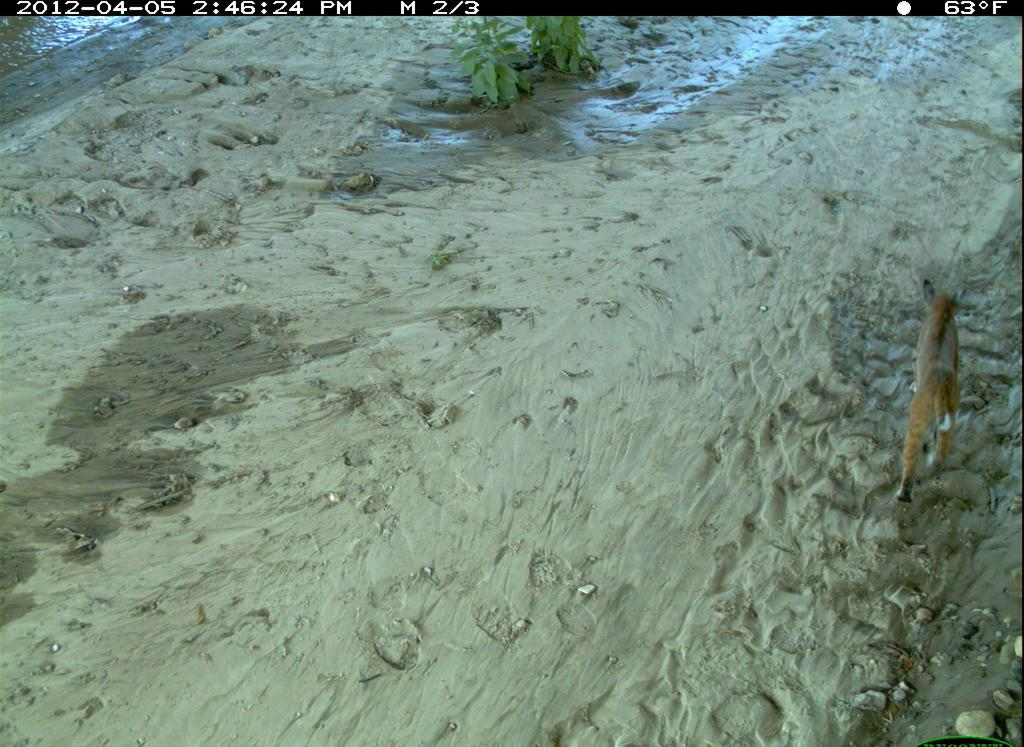bobcat: (880, 272, 989, 510)
